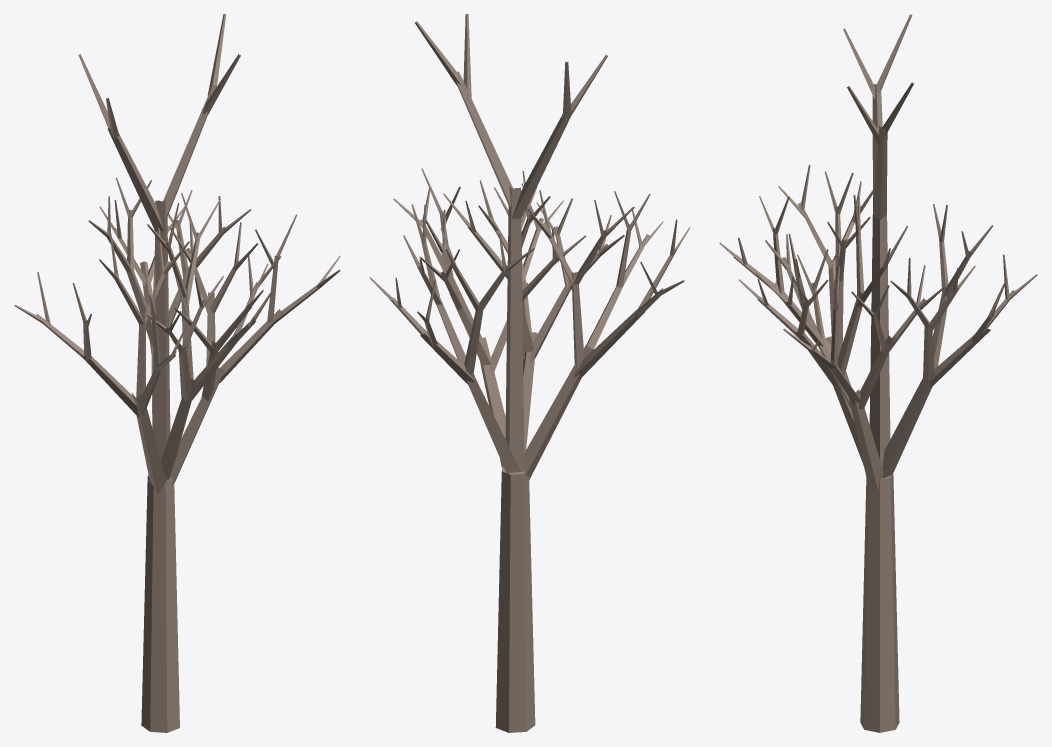
Rendered from tree-broadleaf-a-bare.glb.
3 views of the same model, side by side, from view 1: azimuth 30°, elevation 25°; view 2: azimuth 150°, elevation 25°; view 3: azimuth 270°, elevation 25° (orthographic). The views are drawn at different scales.
Visible parts, largest first — view 1: tree-broadleaf-a-bare; view 2: tree-broadleaf-a-bare; view 3: tree-broadleaf-a-bare.
Part boxes in pixels (x1=…): tree-broadleaf-a-bare: x1=14, y1=14, x2=340, y2=732; tree-broadleaf-a-bare: x1=370, y1=14, x2=690, y2=732; tree-broadleaf-a-bare: x1=719, y1=14, x2=1037, y2=732.
Bounding box in the file's own units: 0.5311 × 1.13 × 0.4776.
